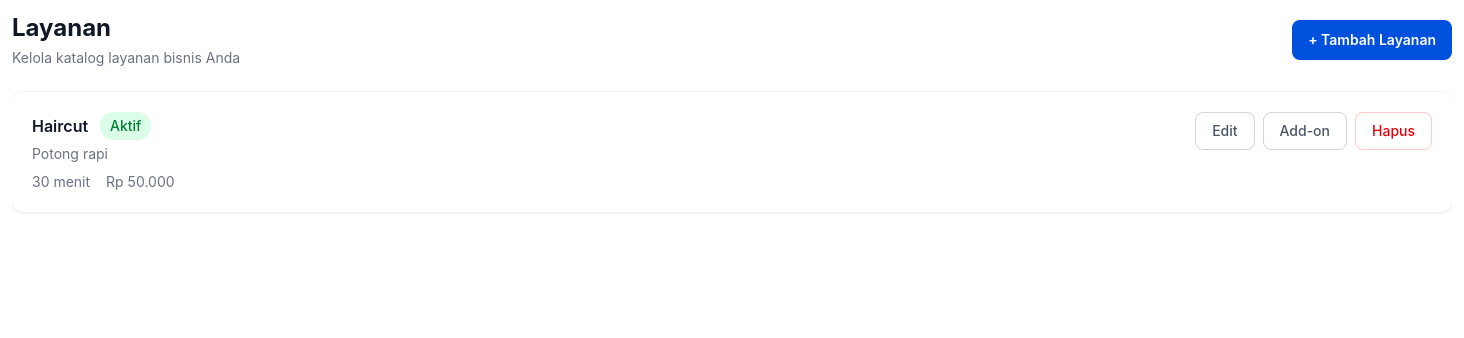
Test: ServicesPage › cancels addon panel via Batal
Expected: the heading "Haircut" is shown, [32,114,88,138]
Click the button "Add-on". click: (1305, 131)
box: [1262,112,1347,150]
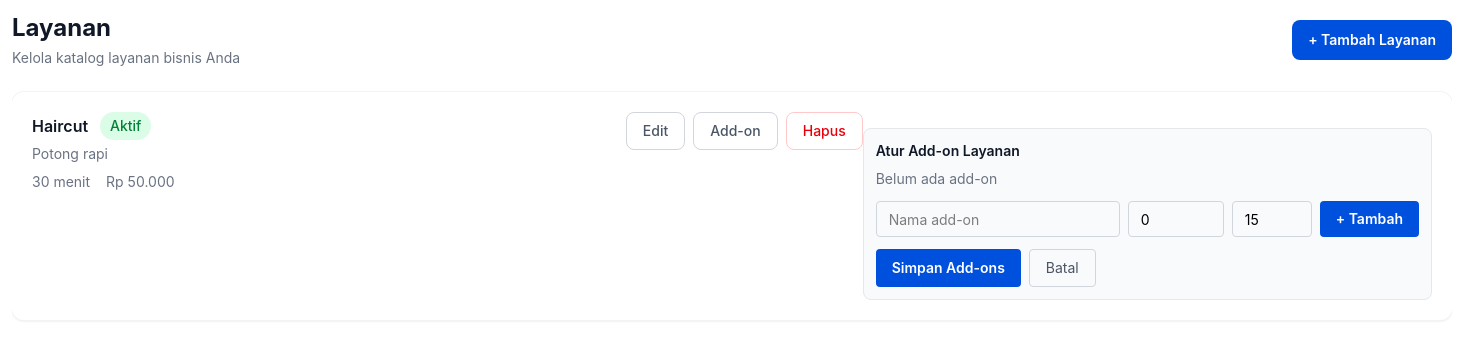
Result: the heading "Atur Add-on Layanan" is shown at [876,142,1020,159]
Click the button "Batal". click: (1062, 268)
box: [1029,249,1096,287]
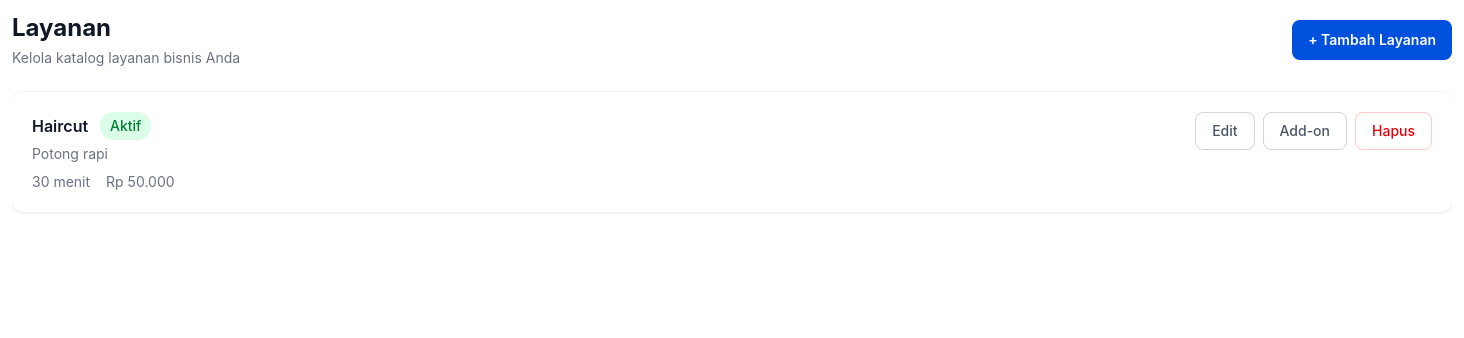
Result: the heading "Atur Add-on Layanan" is gone
